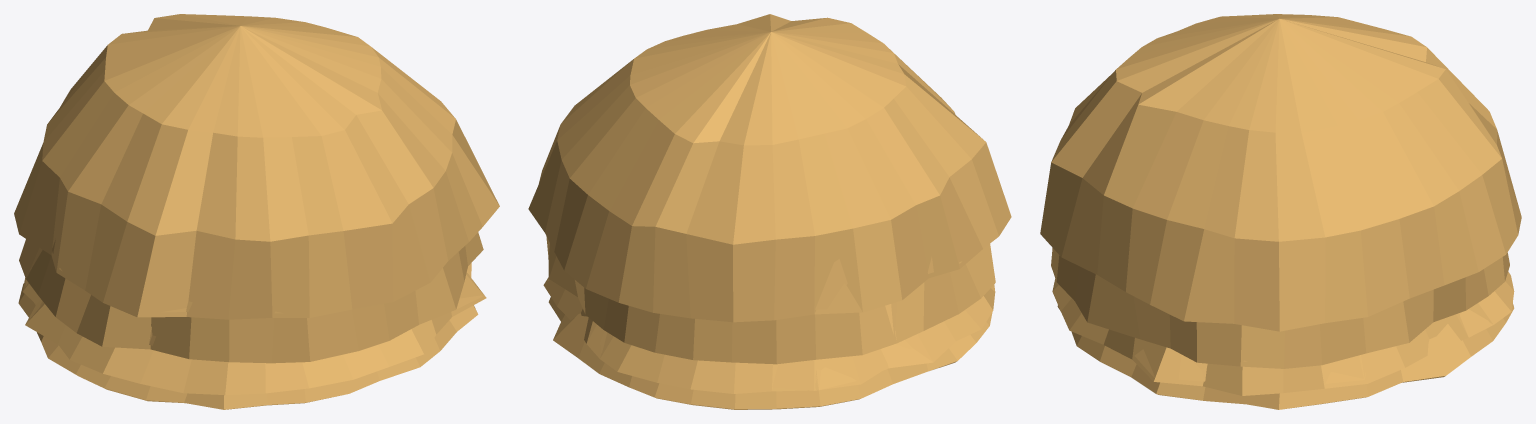
The model's file is fardo de paja.fbx.
3 views of the same model, side by side, from view 1: azimuth 30°, elevation 25°; view 2: azimuth 150°, elevation 25°; view 3: azimuth 270°, elevation 25° (orthographic). The views are drawn at different scales.
Visible parts, largest first — view 1: Cone.003; view 2: Cone.003; view 3: Cone.003.
Boxes of the visible parts, x1,y1,x2,y2 form: Cone.003: (14,14,499,409); Cone.003: (528,14,1011,409); Cone.003: (1040,14,1521,409).
Bounding box in the file's own units: 155 × 101 × 151.
